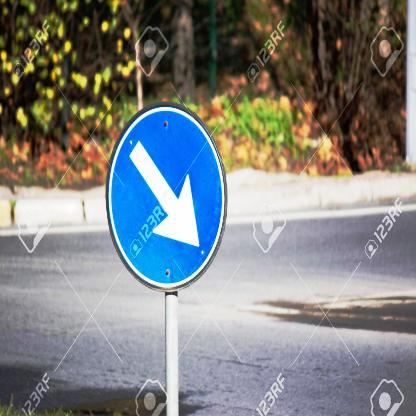Keep right: (104, 105, 231, 297)
